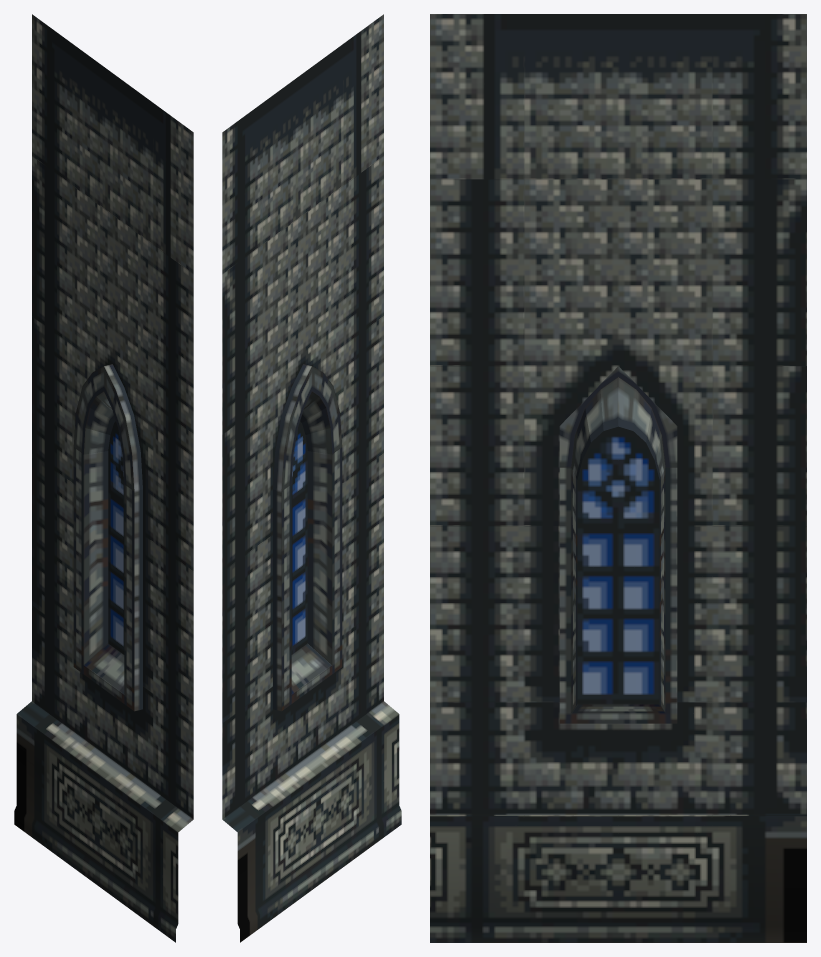
Rendered from ObjMD_Daiseido_Wall_C.FBX.
3 views of the same model, side by side, from view 1: azimuth 30°, elevation 25°; view 2: azimuth 150°, elevation 25°; view 3: azimuth 270°, elevation 25° (orthographic). The views are drawn at different scales.
Parts seen in each view (by area): view 1: ObjMD_Daiseido_Wall_C; view 2: ObjMD_Daiseido_Wall_C; view 3: ObjMD_Daiseido_Wall_C.
Part boxes in pixels (left/top/right/bottom): ObjMD_Daiseido_Wall_C: left=14, top=14, right=193, bottom=942; ObjMD_Daiseido_Wall_C: left=222, top=14, right=401, bottom=942; ObjMD_Daiseido_Wall_C: left=430, top=14, right=806, bottom=942.
Bounding box in the file's own units: 43.75 × 1100 × 400.
